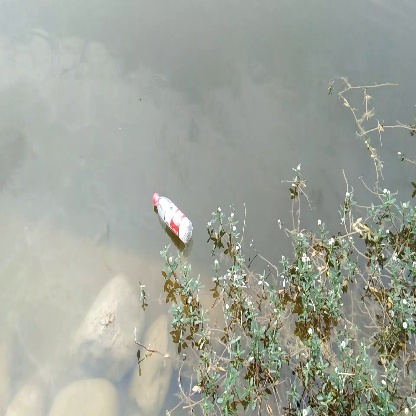bottle: (148, 190, 196, 247)
